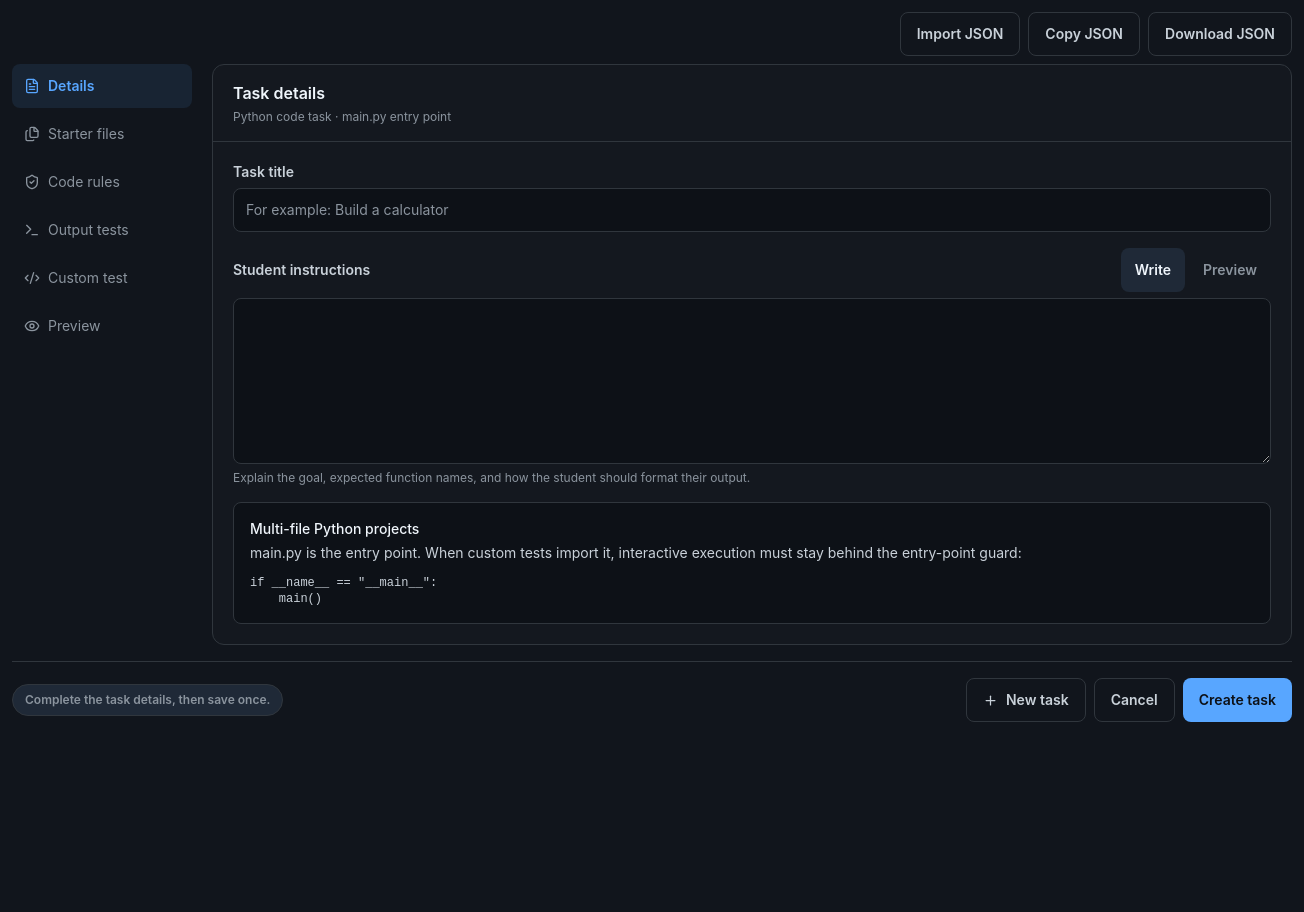
it: returns to the section with the first validation error
Click the button "Output tests": (102, 230) [12, 208, 192, 252]
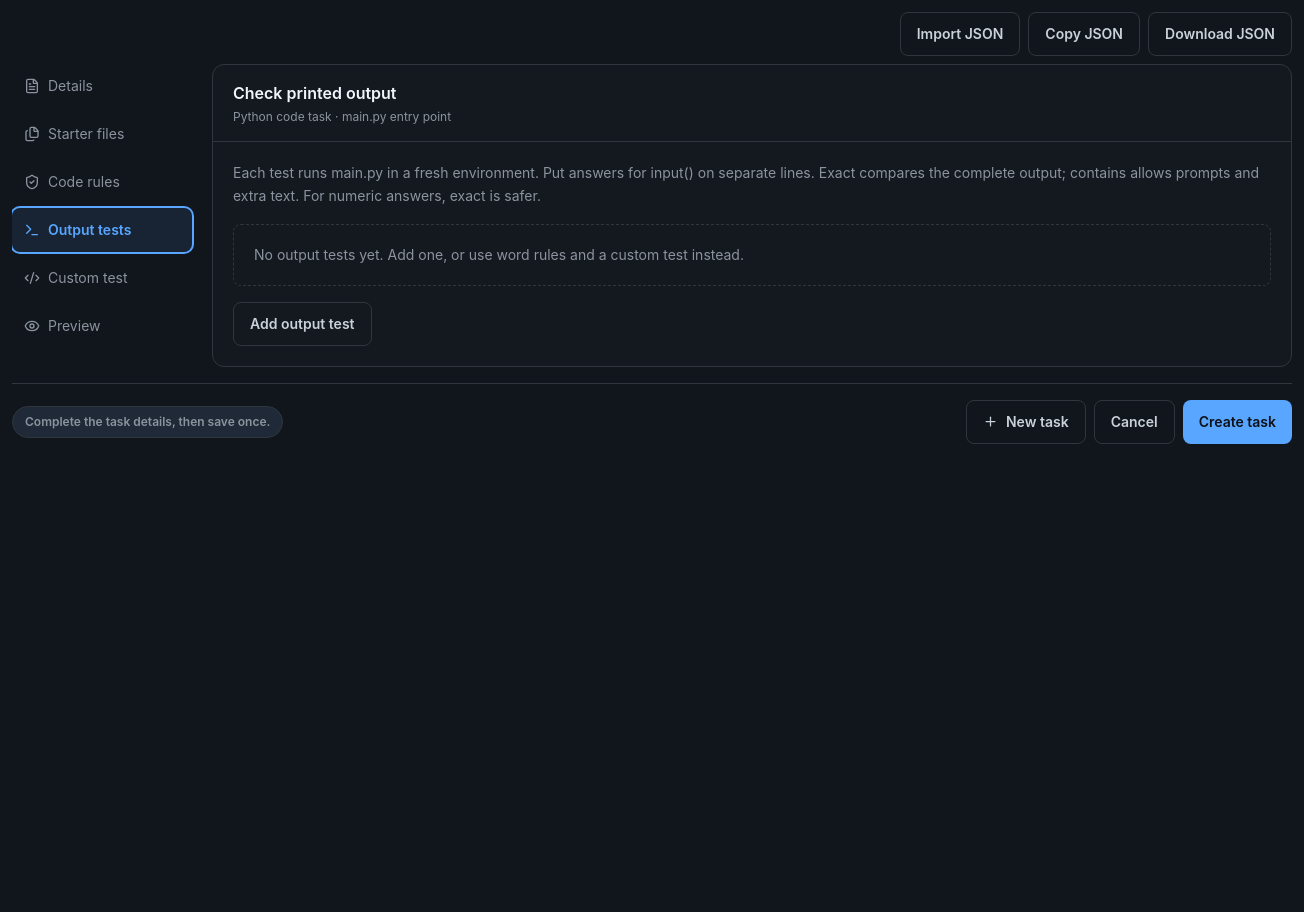
Click the button "Create task": (1237, 422) [1183, 400, 1292, 444]
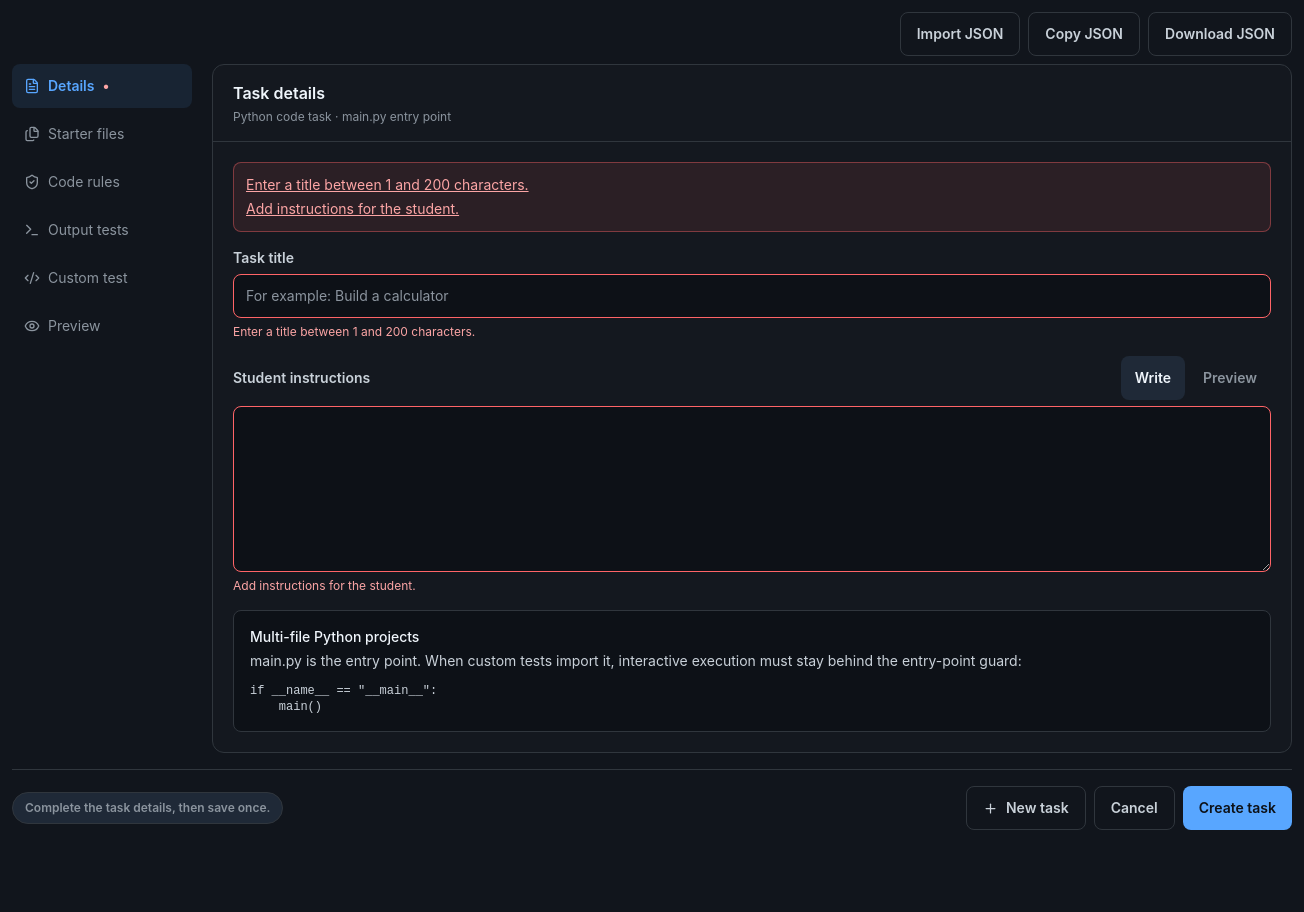
Result: the field labelled "Task title" is shown at [233, 274, 1271, 318]
